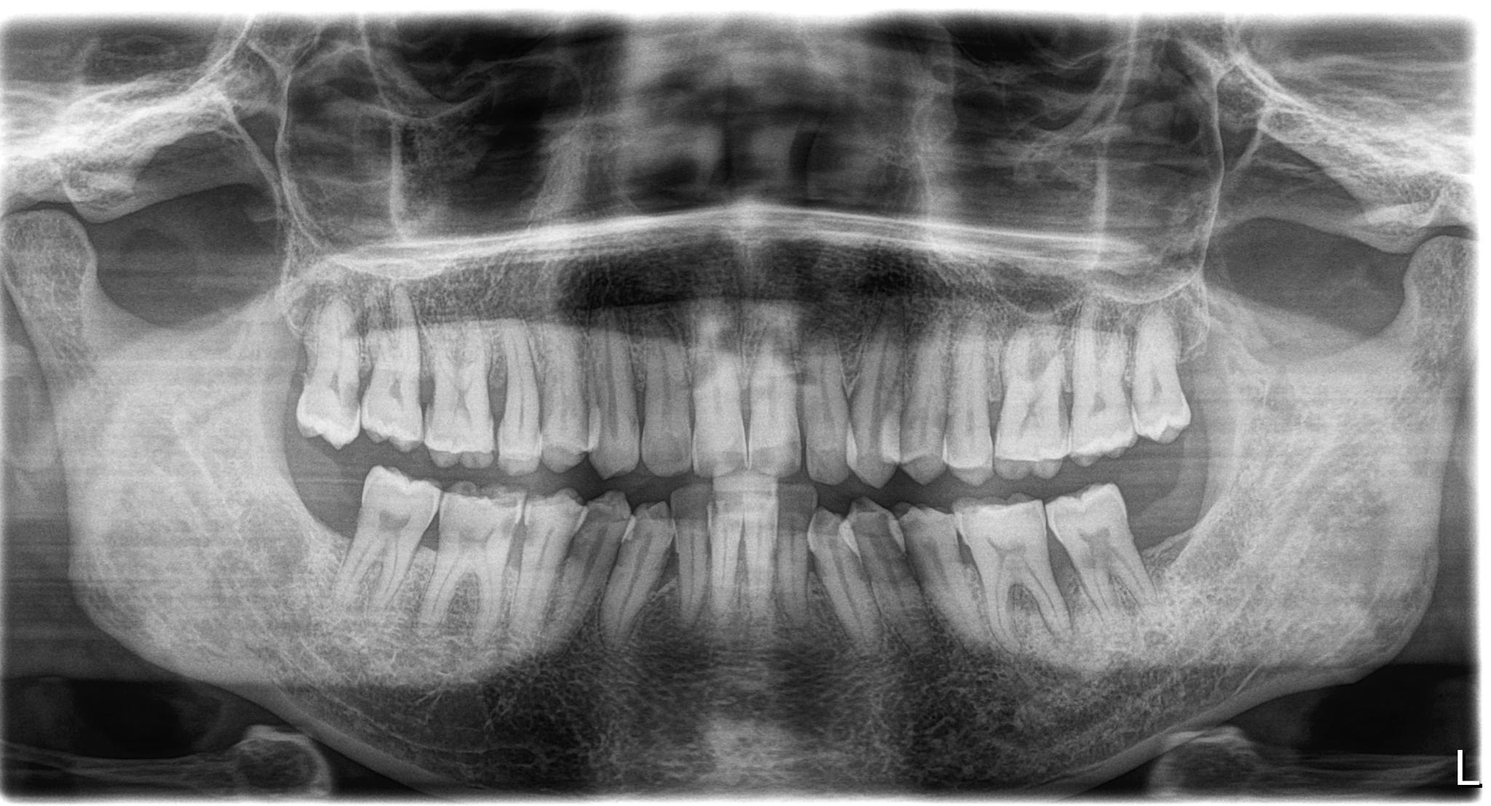Missing Tooth: (1120, 445, 1219, 583), (280, 435, 362, 545)
